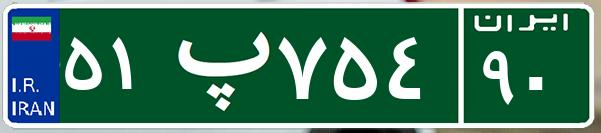0: (525, 38, 570, 115)
1: (110, 28, 158, 105)
4: (385, 28, 445, 110)
5: (330, 28, 385, 110), (57, 26, 110, 107)
7: (273, 28, 330, 110)
9: (475, 38, 525, 113)
پ: (158, 15, 273, 115)
